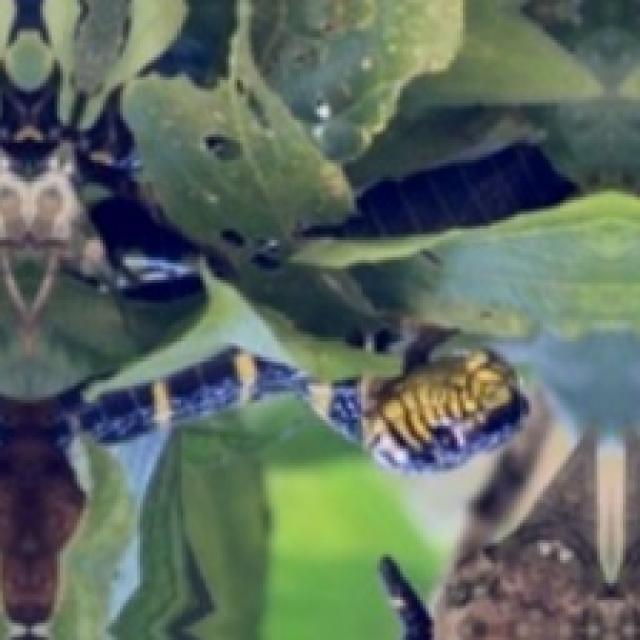mangrove cat snake: (77, 326, 526, 469), (76, 96, 235, 299), (299, 141, 579, 238)
